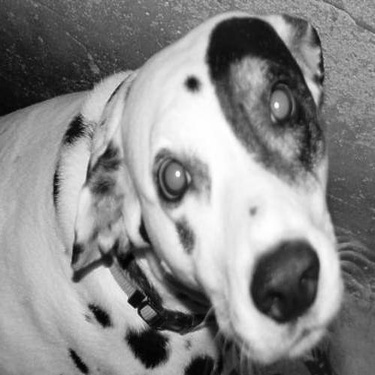dog: (1, 11, 352, 373)
